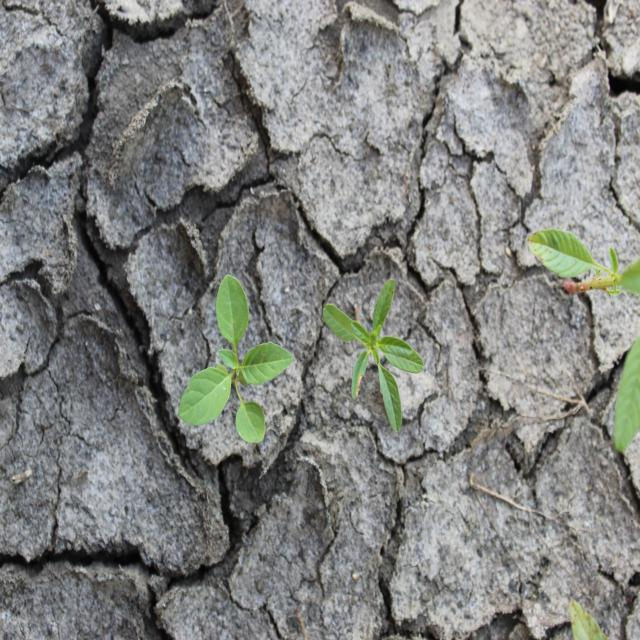CutleafGroundcherry: (175, 272, 296, 446)
Waterhemp: (526, 227, 638, 458), (321, 276, 426, 436)
